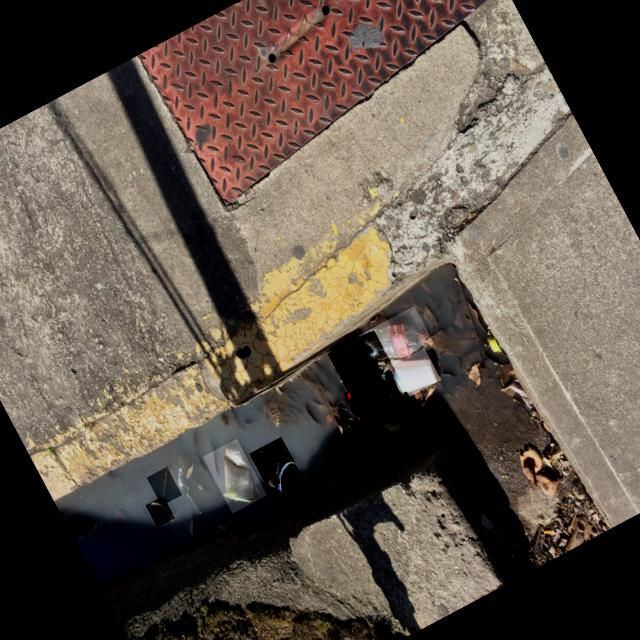Bottle cap: (488, 336, 499, 352), (347, 391, 357, 403)
Cigarette: (543, 528, 554, 533)
Clear plastic bottle: (365, 324, 430, 360)
Cup: (223, 443, 259, 502), (258, 446, 298, 496), (392, 359, 438, 394)
Lid: (149, 501, 172, 524)
Single-use carrier bag: (334, 340, 402, 419)
Straw: (160, 467, 168, 504)
